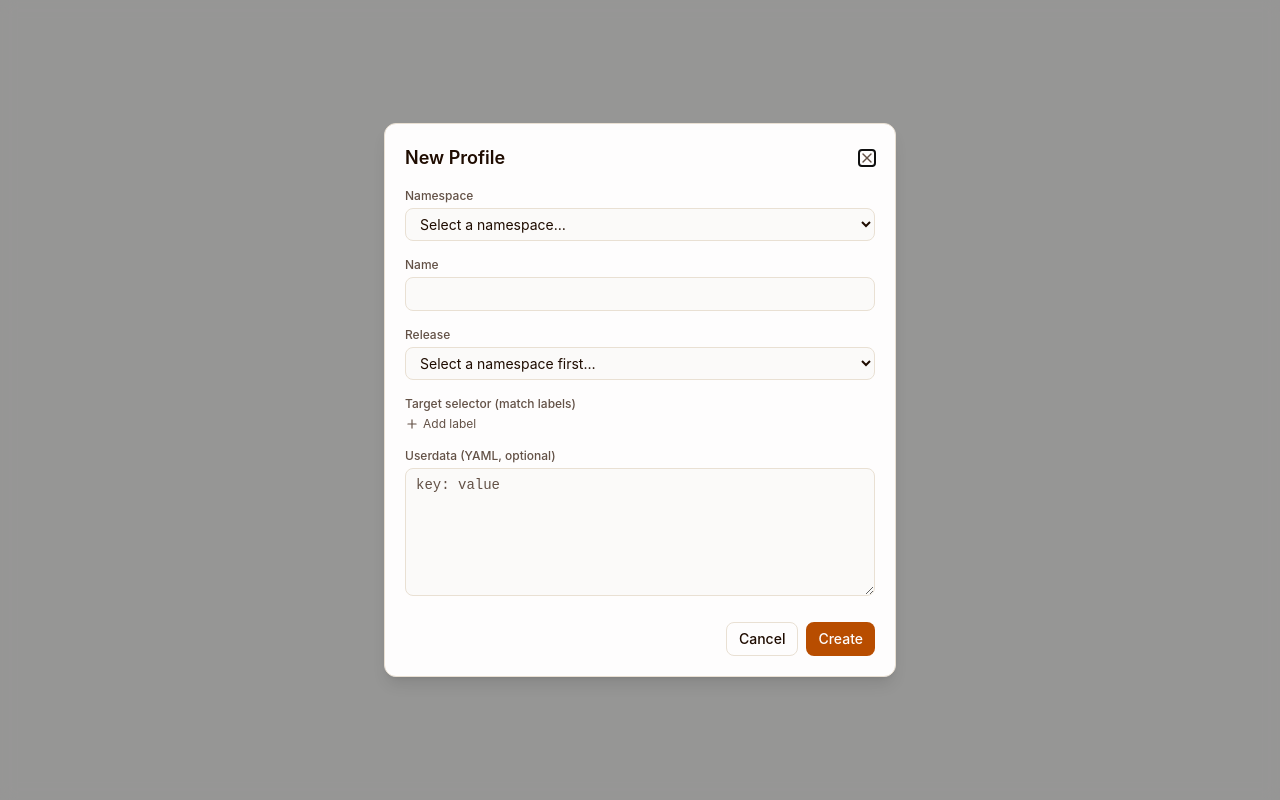
Test: CreateProfileDialog › requires picking a namespace in the all-namespaces view
The width and height of the screenshot is (1280, 800).
What coordinates should you click on to do the following:
click the button "Create"
I would click on:
 (841, 639)
Its box is [806,622,875,656].
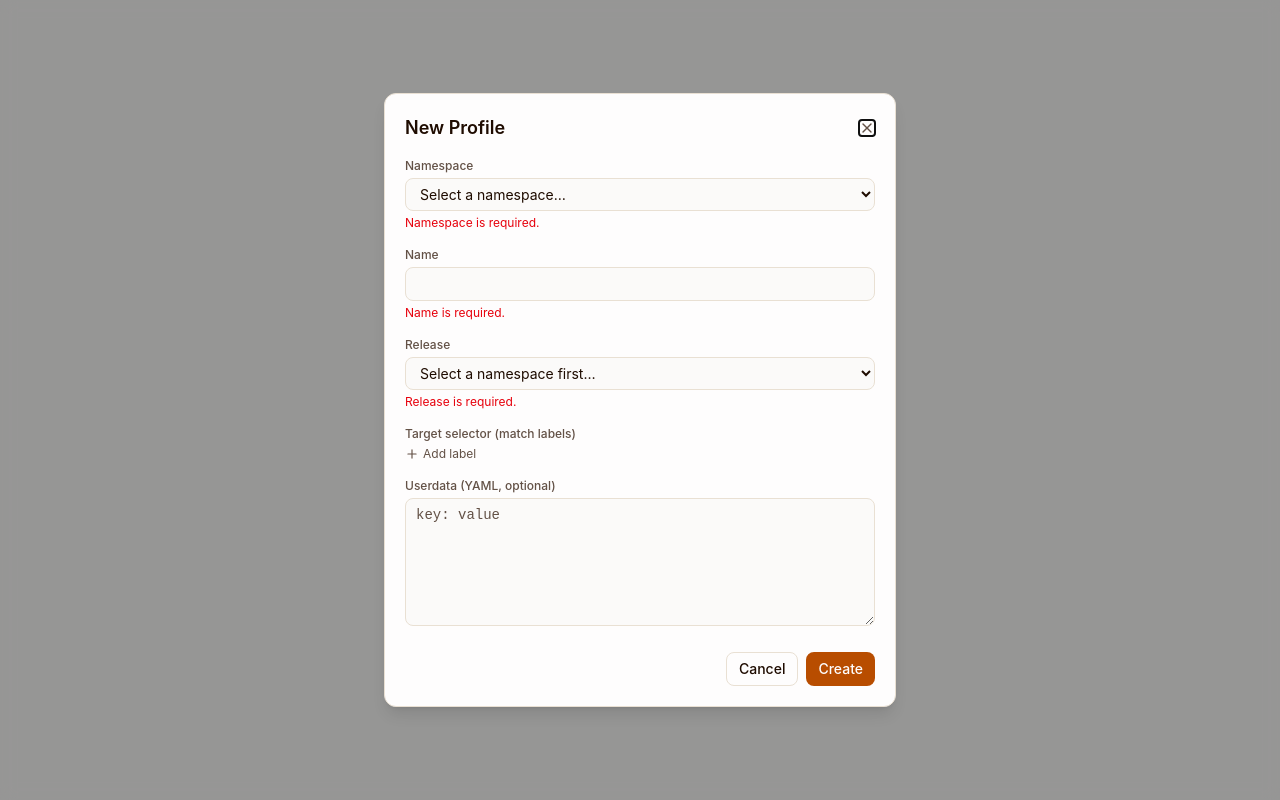
Expected: the text "Namespace is required." is shown, [405,215,540,230]
